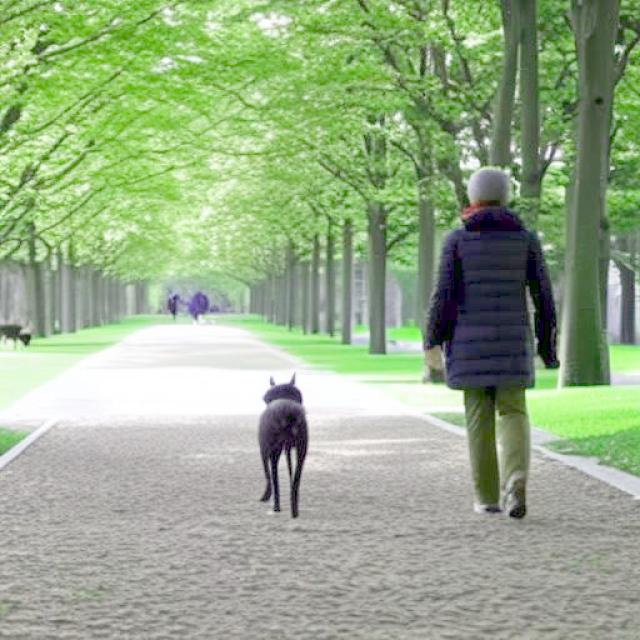Unleashed_Dog: (258, 316, 526, 520)
